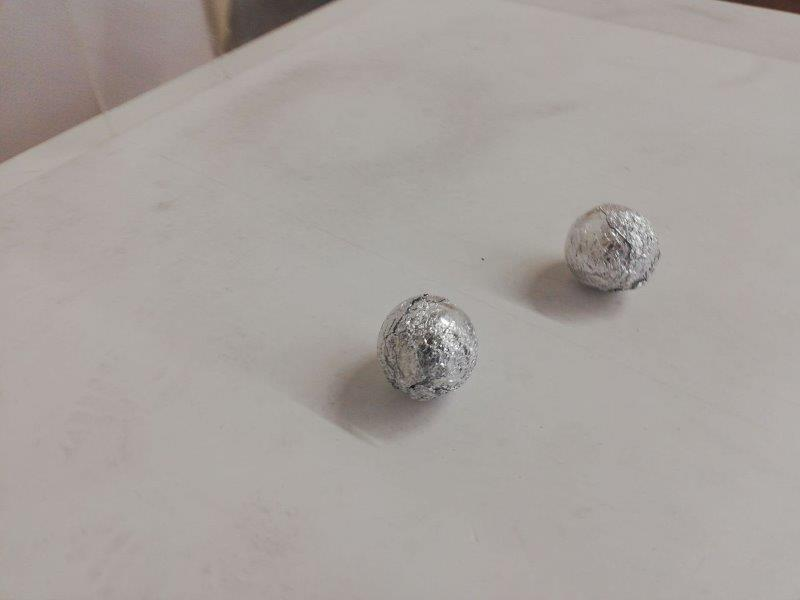bianca: (374, 293, 482, 400), (563, 198, 659, 297)
